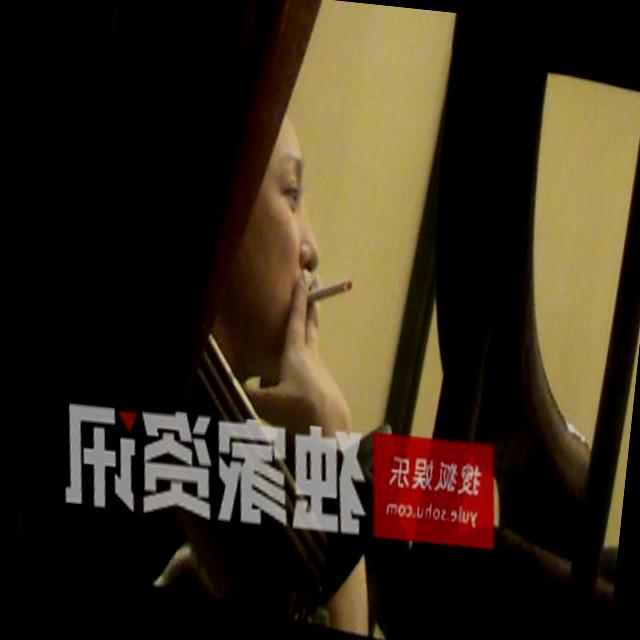smoke: (296, 260, 367, 316)
